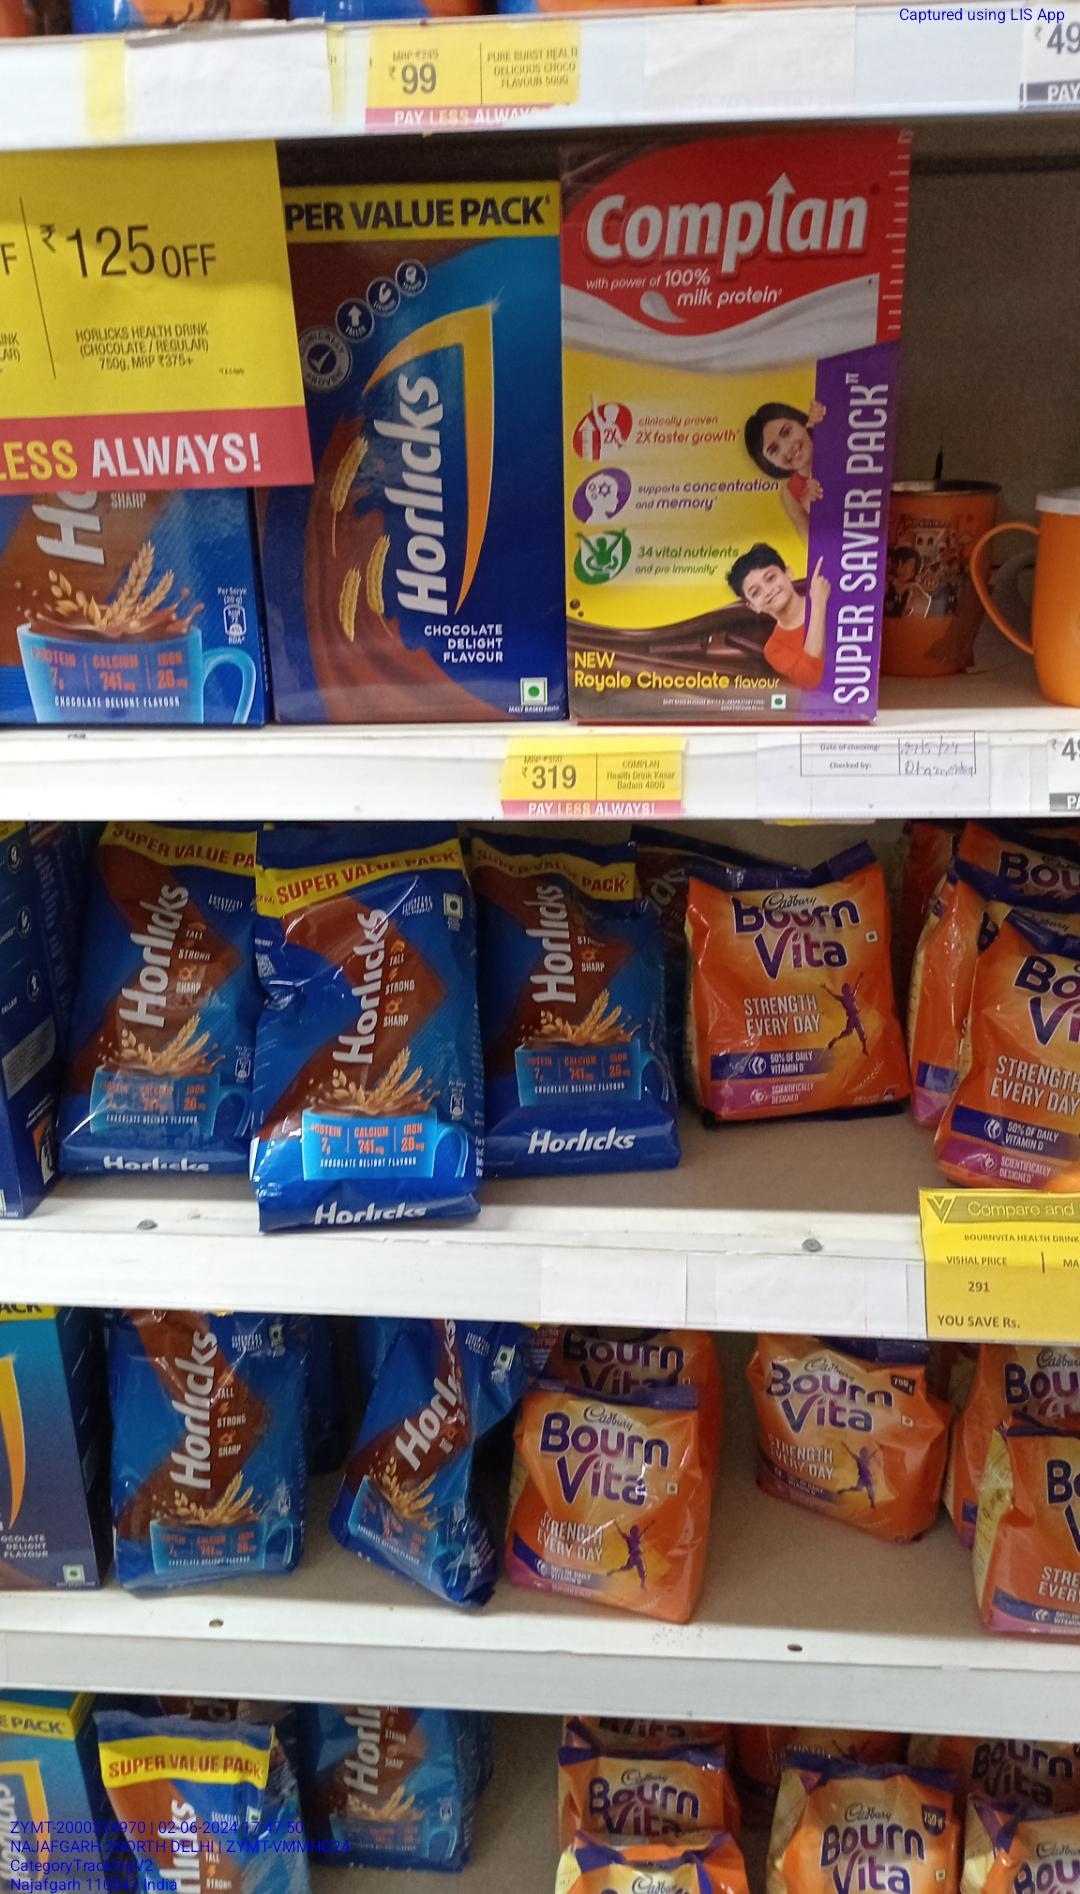BOURN_VITA_500_G_POUCH: (692, 862, 900, 1119), (515, 1381, 703, 1614)
BOURN_VITA_750_G_POUCH: (749, 1333, 934, 1526)
HORLICK_CHOCOLATE_750_G_POUCH: (254, 835, 479, 1220), (491, 842, 681, 1166), (70, 834, 241, 1168)
